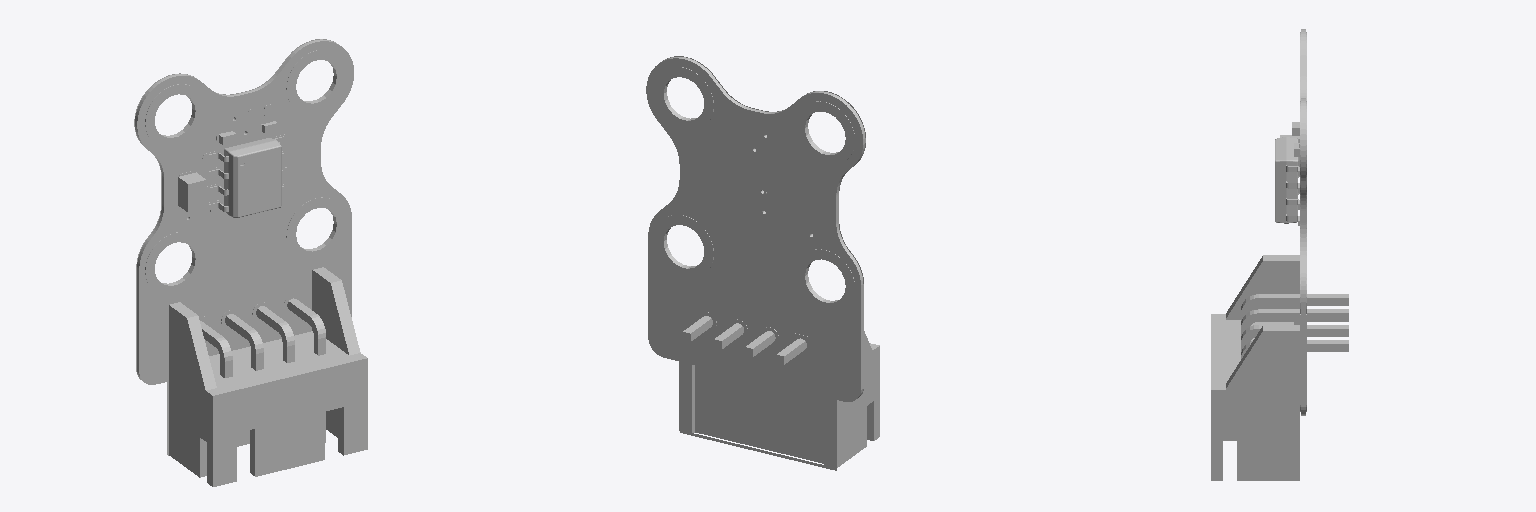
Rendered from Magnetic Sensor.pdf.obj.
3 views of the same model, side by side, from view 1: azimuth 30°, elevation 25°; view 2: azimuth 150°, elevation 25°; view 3: azimuth 270°, elevation 25° (orthographic).
Parts seen in each view (by area): view 1: Solder_Top, ComponentBody.10, Pad, ComponentBody.3, ComponentBody.11, Core, Top, ComponentBody.4, ComponentBody; view 2: Solder_Bottom, ComponentBody.10, Pad, Core, ComponentBody.11, Top; view 3: ComponentBody.10, ComponentBody.11, Core, ComponentBody.3, GND.
Boxes of the visible parts, x1=… form: Solder_Top: x1=138, y1=42, x2=353, y2=384; ComponentBody.10: x1=169, y1=267, x2=367, y2=486; Pad: x1=145, y1=50, x2=345, y2=295; ComponentBody.3: x1=224, y1=138, x2=281, y2=217; ComponentBody.11: x1=200, y1=298, x2=325, y2=442; Core: x1=135, y1=39, x2=346, y2=382; Top: x1=167, y1=135, x2=324, y2=455; ComponentBody.4: x1=209, y1=136, x2=283, y2=211; ComponentBody: x1=178, y1=173, x2=206, y2=212; Solder_Bottom: x1=646, y1=59, x2=862, y2=401; ComponentBody.10: x1=681, y1=331, x2=879, y2=469; Pad: x1=654, y1=67, x2=854, y2=312; Core: x1=653, y1=57, x2=865, y2=398; ComponentBody.11: x1=683, y1=316, x2=806, y2=364; Top: x1=679, y1=361, x2=836, y2=470; ComponentBody.10: x1=1211, y1=255, x2=1299, y2=480; ComponentBody.11: x1=1241, y1=294, x2=1348, y2=358; Core: x1=1301, y1=29, x2=1305, y2=415; ComponentBody.3: x1=1275, y1=137, x2=1297, y2=223; GND: x1=1300, y1=32, x2=1306, y2=411.
Size of the model in its own units: 1.73 by 2.89 by 0.955.